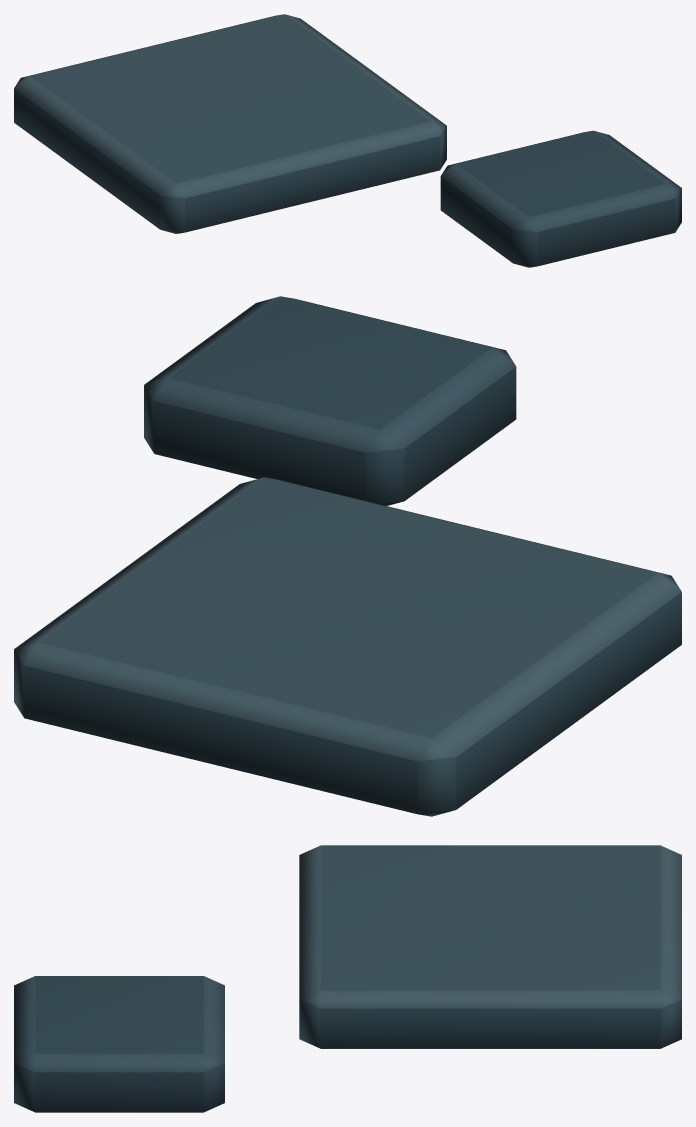
Rendered from stone_path_9.fbx.
The picture shows the model from 3 angles, top to bottom: view 1: azimuth 30°, elevation 25°; view 2: azimuth 150°, elevation 25°; view 3: azimuth 270°, elevation 25°; orthographic projection. The views are drawn at different scales.
Parts seen in each view (by area): view 1: stone_path_9; view 2: stone_path_9; view 3: stone_path_9.
Boxes of the visible parts, box(x1,y1,x2,y2) form: stone_path_9: box(14, 14, 681, 267); stone_path_9: box(14, 296, 681, 816); stone_path_9: box(14, 845, 681, 1112).
Size of the model in its own units: 150 by 18.28 by 188.
